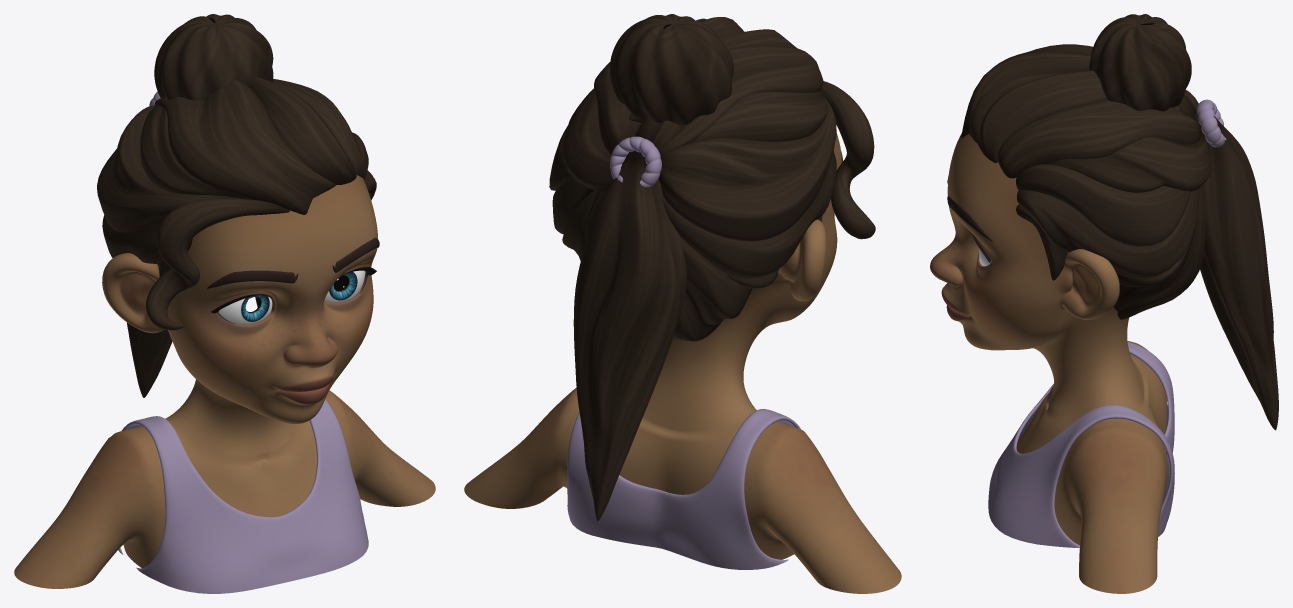
File: head.glb
3 renders of one model, left to right at view 1: azimuth 30°, elevation 25°; view 2: azimuth 150°, elevation 25°; view 3: azimuth 270°, elevation 25°, orthographic. The views are drawn at different scales.
Visible parts, largest first — view 1: Face, Hair, Bust, Top, HairBun, HairSweep, HairTail, Brows, Eye.R, Eye.L; view 2: Hair, Bust, HairTail, Top, Face, HairBun, HairSweep, HairTie; view 3: Hair, Face, Bust, HairTail, Top, HairBun, HairTie.
Part boxes in pixels (x1=…): Face: x1=102, y1=175, x2=377, y2=458; Hair: x1=97, y1=77, x2=376, y2=307; Bust: x1=14, y1=390, x2=435, y2=588; Top: x1=118, y1=399, x2=368, y2=593; HairBun: x1=154, y1=14, x2=273, y2=100; HairSweep: x1=146, y1=198, x2=289, y2=330; HairTail: x1=127, y1=322, x2=172, y2=397; Brows: x1=207, y1=238, x2=379, y2=288; Eye.R: x1=218, y1=295, x2=272, y2=324; Eye.L: x1=324, y1=270, x2=365, y2=302; Hair: x1=549, y1=17, x2=836, y2=341; Bust: x1=464, y1=387, x2=901, y2=593; HairTail: x1=573, y1=150, x2=686, y2=520; Top: x1=567, y1=409, x2=800, y2=569; Face: x1=641, y1=133, x2=841, y2=435; HairBun: x1=610, y1=14, x2=733, y2=125; HairSweep: x1=821, y1=81, x2=875, y2=239; HairTie: x1=610, y1=136, x2=661, y2=187; Hair: x1=961, y1=44, x2=1211, y2=319; Face: x1=930, y1=133, x2=1145, y2=417; Bust: x1=1016, y1=341, x2=1167, y2=593; HairTail: x1=1193, y1=114, x2=1278, y2=430; Top: x1=988, y1=342, x2=1174, y2=547; HairBun: x1=1089, y1=14, x2=1191, y2=111; HairTie: x1=1196, y1=99, x2=1226, y2=147.
Bounding box in the file's own units: 0.4373 × 0.5077 × 0.3377.
8 materials, 4 textured.
